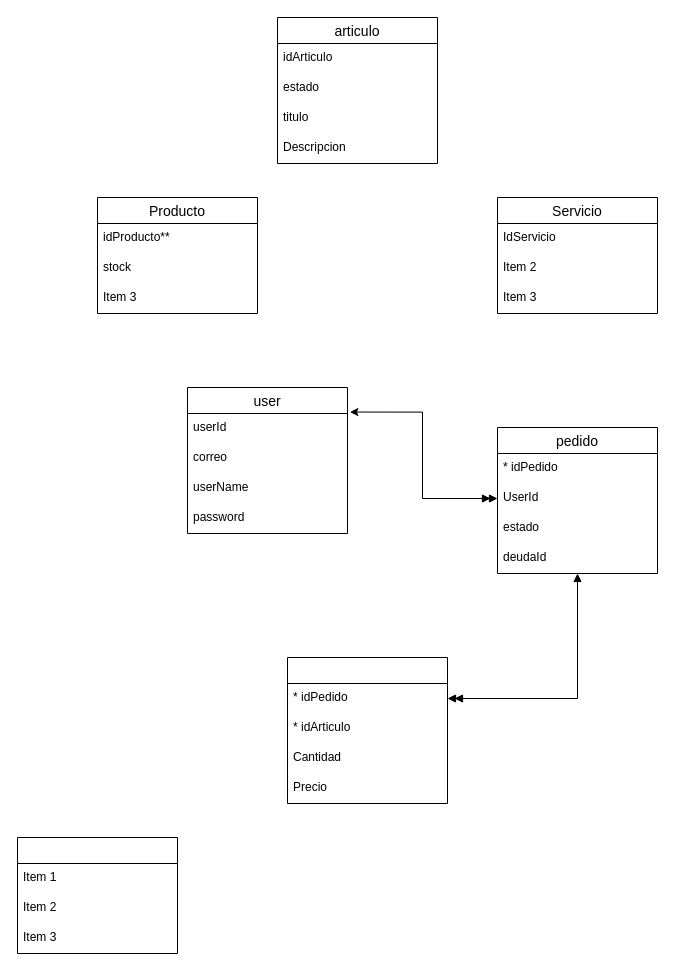
Some shapes in this 675 by 974 pixel diagram are drawn without their labels. Here are the shapes that lost their labels. From the top down, the box of each, then its label:
(286, 656, 448, 804): DetallePedido
(16, 836, 178, 954): DetalleFacturacion
